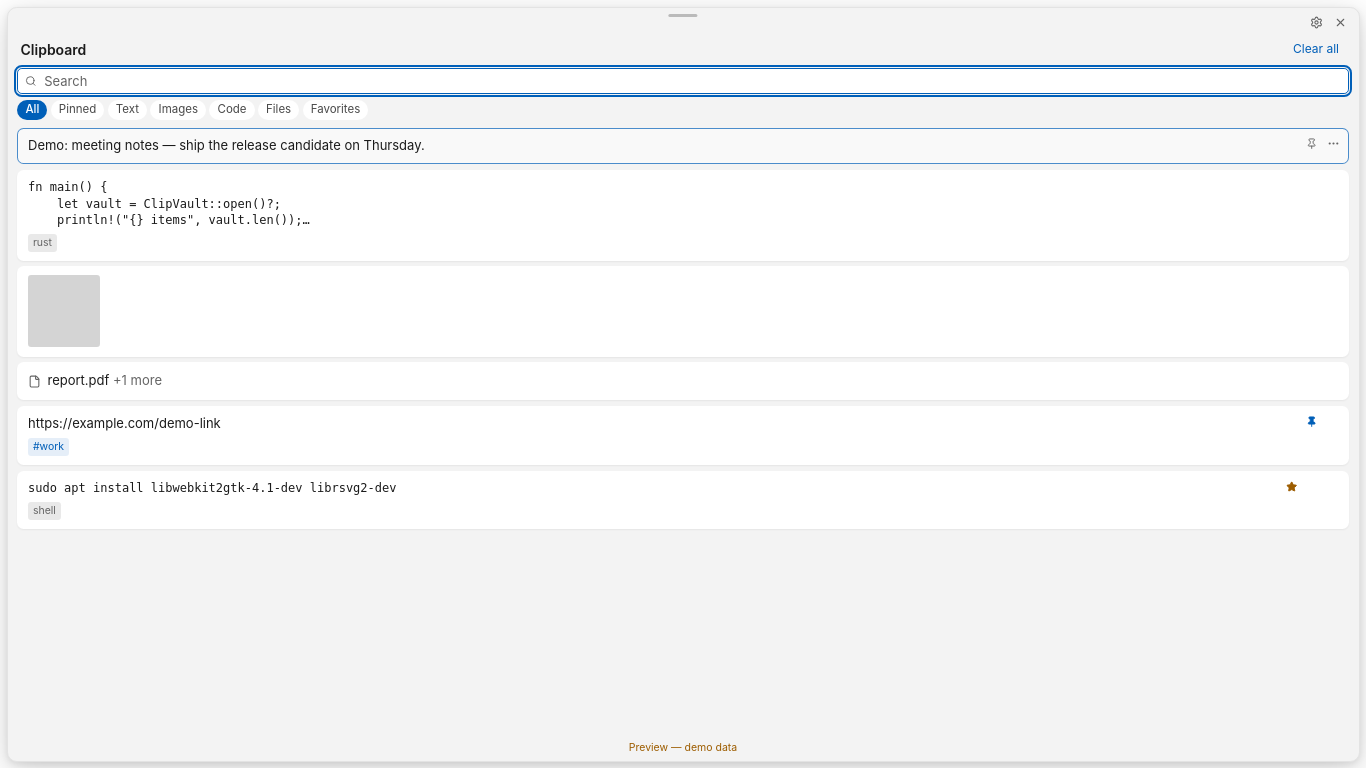
it: Clipboard panel (preview backend) › pins with Ctrl+P and shows it under Pinned
Expected: the option with aria-label "Copied 2 min ago — click to paste" is shown, [17,128,1349,164]
Type keys "{Control>}p{/Control}"
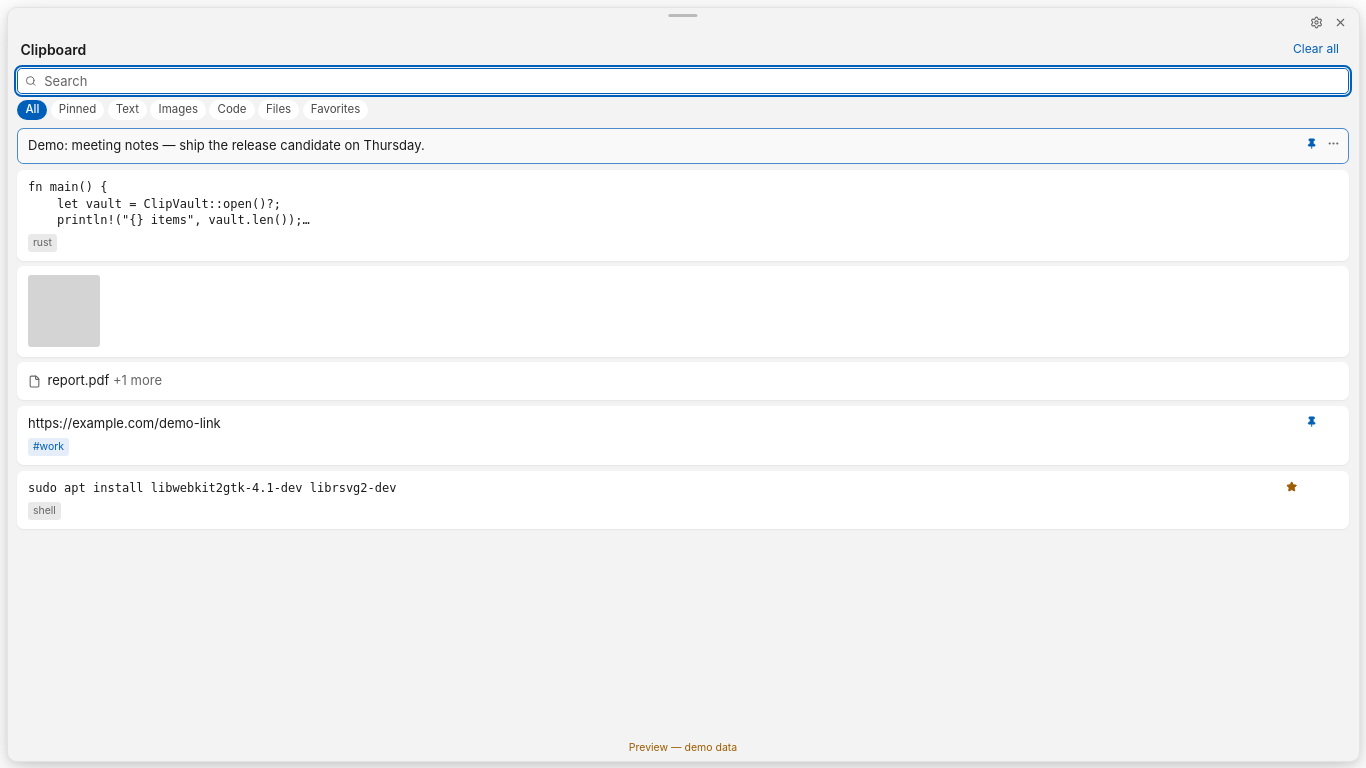
Click the tab "Pinned": coordinates (78, 110) [51,100,104,120]
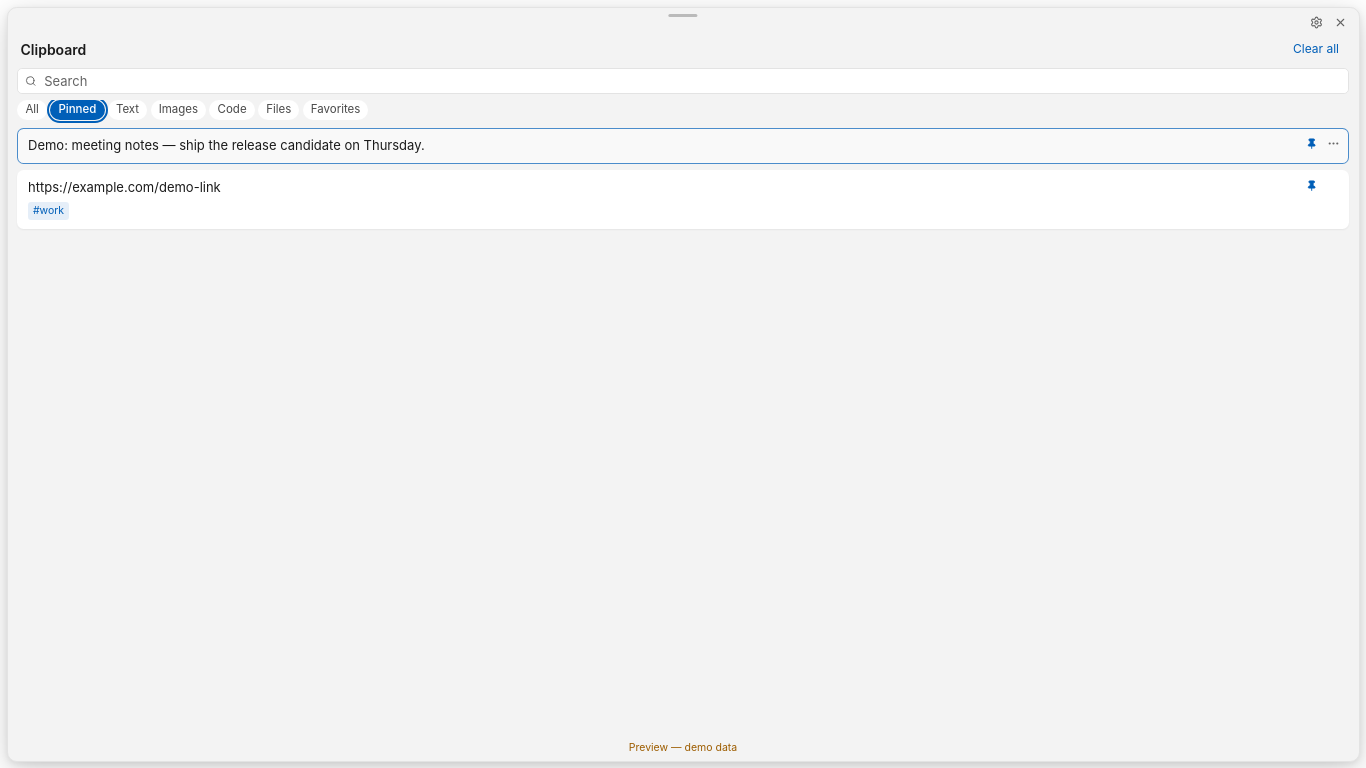
Result: the number of options is 2 at [17,128,1349,164]; [17,170,1349,229]
